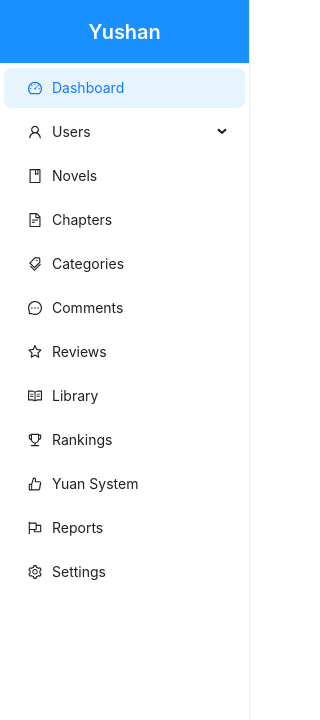
Test case: AdminSidebar Component › Users Submenu › has Users submenu with children
What coordinates should you click on to do the following:
click the menu item "Users"
I would click on:
 (59, 132)
Its box is [28,123,91,140].
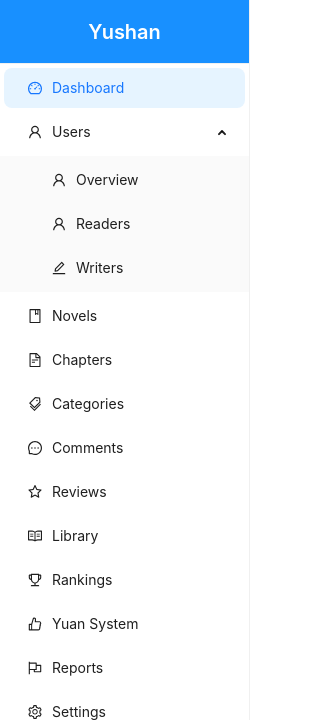
Now the text "Overview" is shown, box [76,171,139,188]
Now the text "Readers" is shown, box [76,215,130,232]
Now the text "Writers" is shown, box [76,259,123,276]
